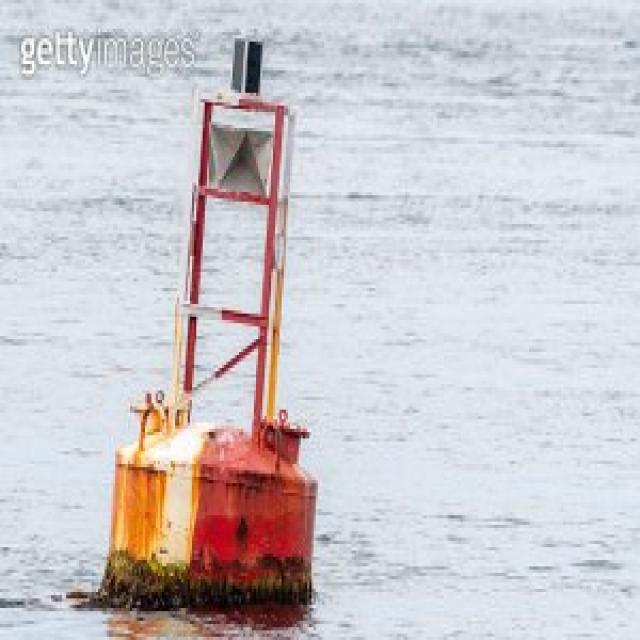buoy: (75, 23, 338, 621)
